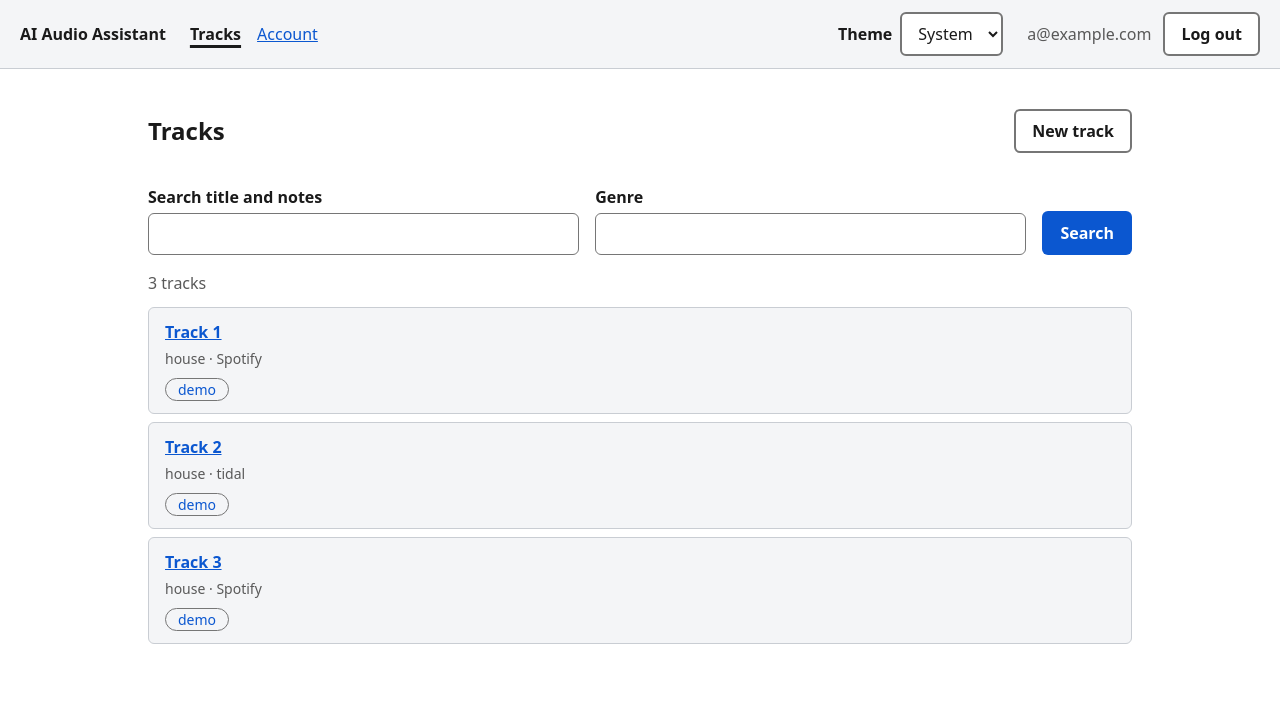
it: creating a track › opens the dialog from the New track button and closes it with Cancel
The width and height of the screenshot is (1280, 720).
Expected: the link "Track 1" is shown, x1=165 y1=321 x2=222 y2=343
Click the button "New track" at (1073, 131), box x1=1014 y1=109 x2=1132 y2=153
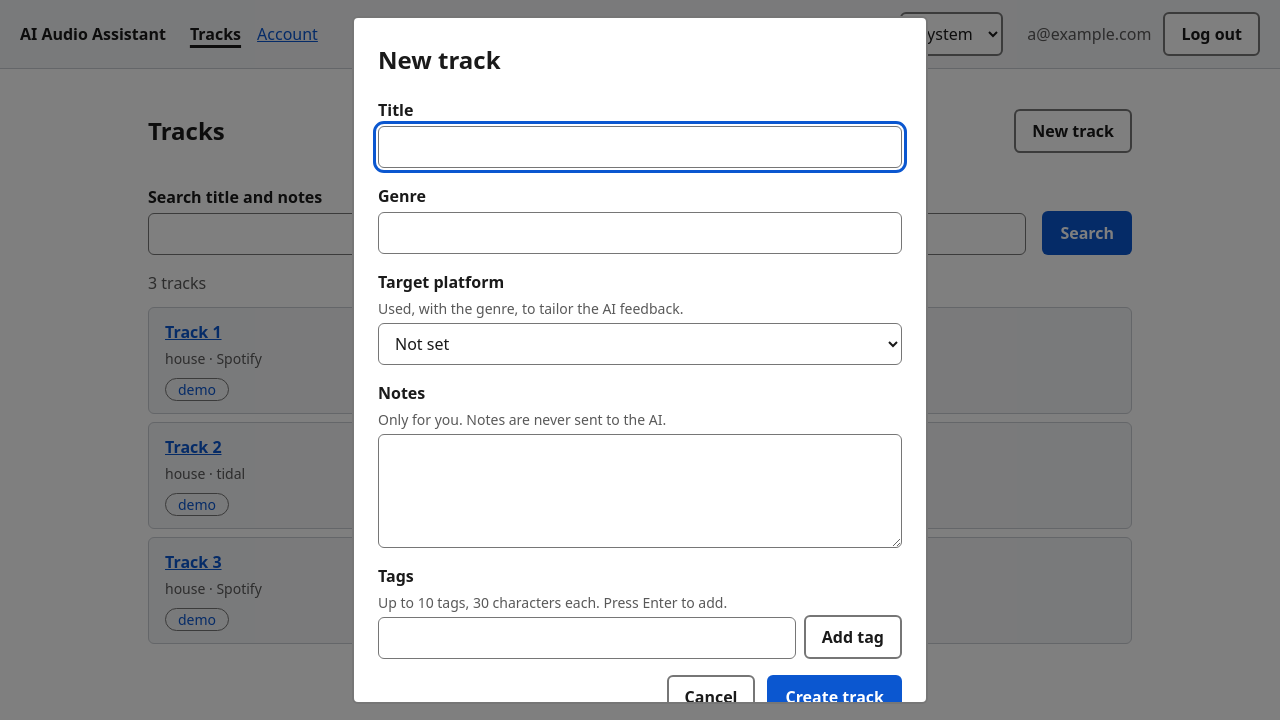
Expected: the dialog "New track" is shown, x1=352 y1=16 x2=928 y2=704
Click the button "Cancel" at (711, 697), box x1=666 y1=675 x2=755 y2=719
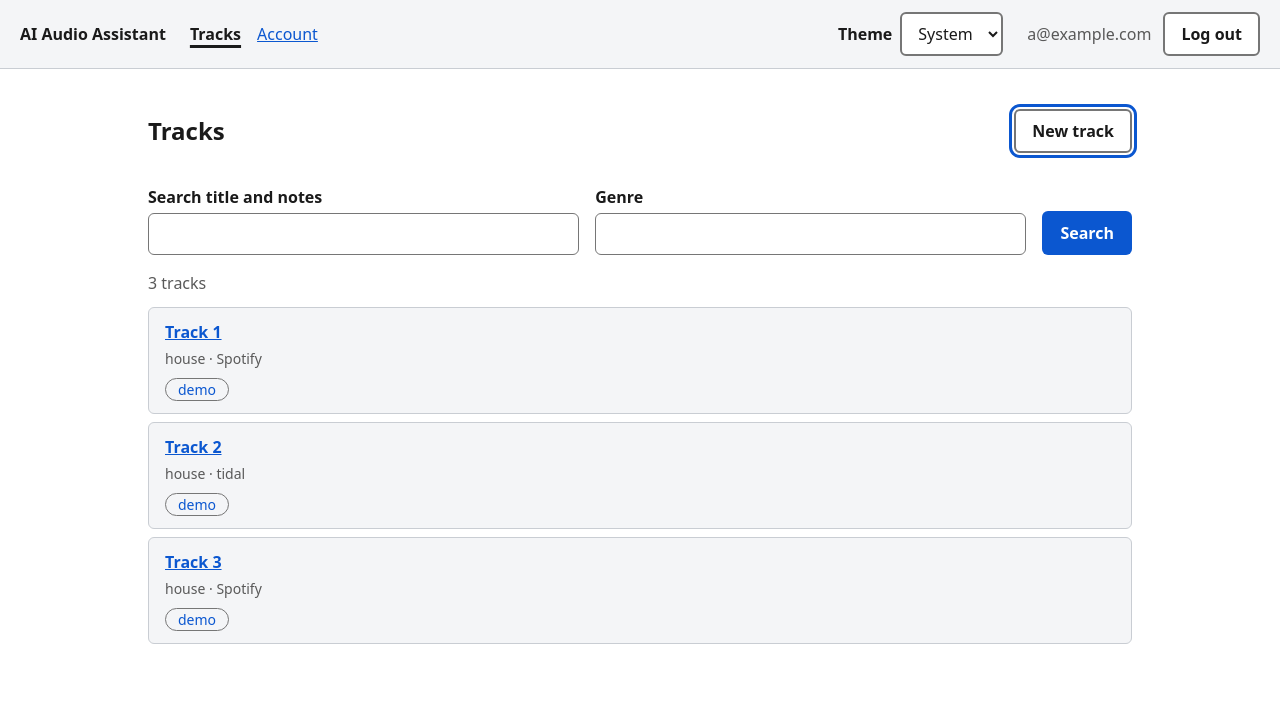
Expected: the dialog is gone
